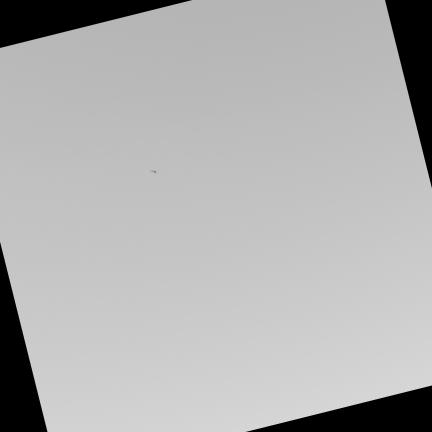Shahed: (149, 169, 157, 174)
